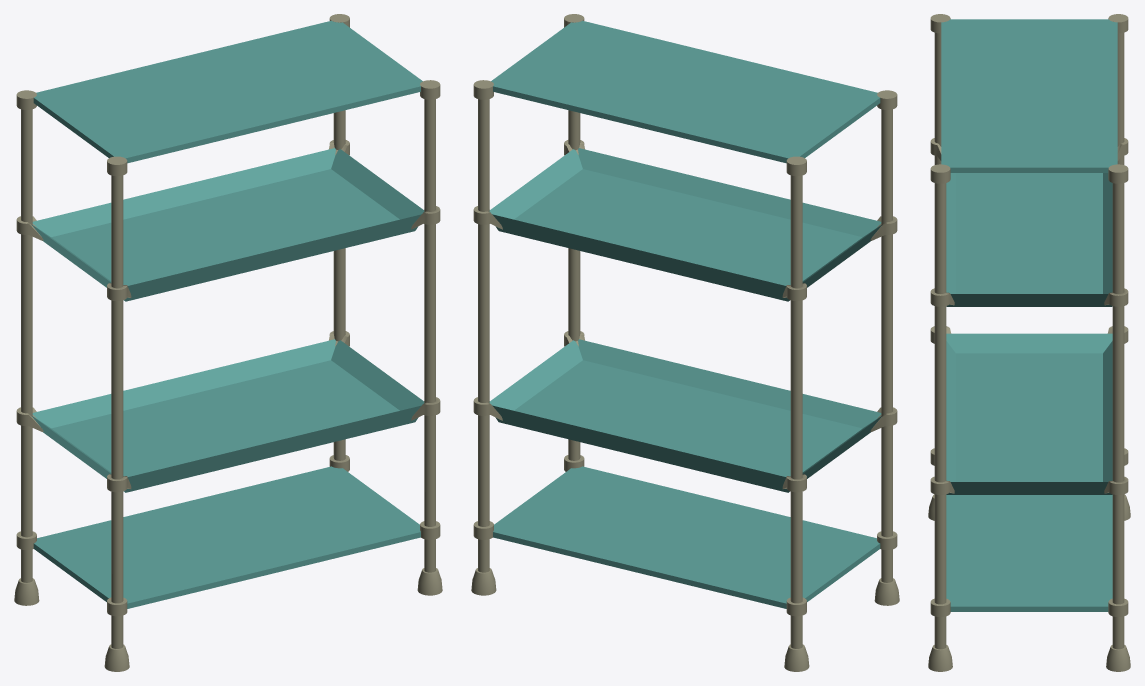
The model's file is lounge_shelf.fbx.
3 views of the same model, side by side, from view 1: azimuth 30°, elevation 25°; view 2: azimuth 150°, elevation 25°; view 3: azimuth 270°, elevation 25° (orthographic).
Visible parts, largest first — view 1: Shelves, Support; view 2: Shelves, Support; view 3: Shelves, Support.
Part boxes in pixels (box(x1,y1,x2,y2)): Shelves: box(32, 20, 424, 608); Support: box(14, 14, 442, 671); Shelves: box(489, 20, 881, 608); Support: box(471, 14, 899, 671); Shelves: box(941, 19, 1117, 611); Support: box(928, 14, 1130, 671).
Bounding box in the file's own units: 6.42 × 9.27 × 3.42.
